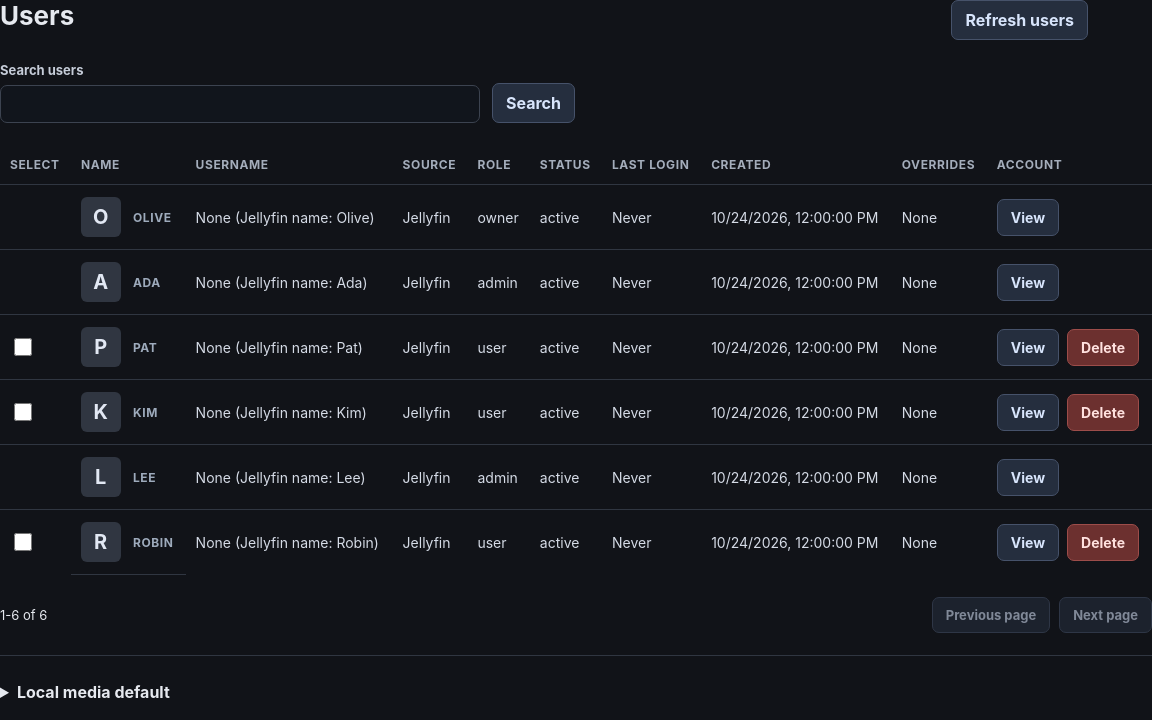
Test: Account deletion entry points › reports an unknown bulk outcome and rereads Users when the connection drops
The width and height of the screenshot is (1152, 720).
Click the checkbox named "Select Pat": [23, 347] box [14,338,32,356]
(page scrolled)
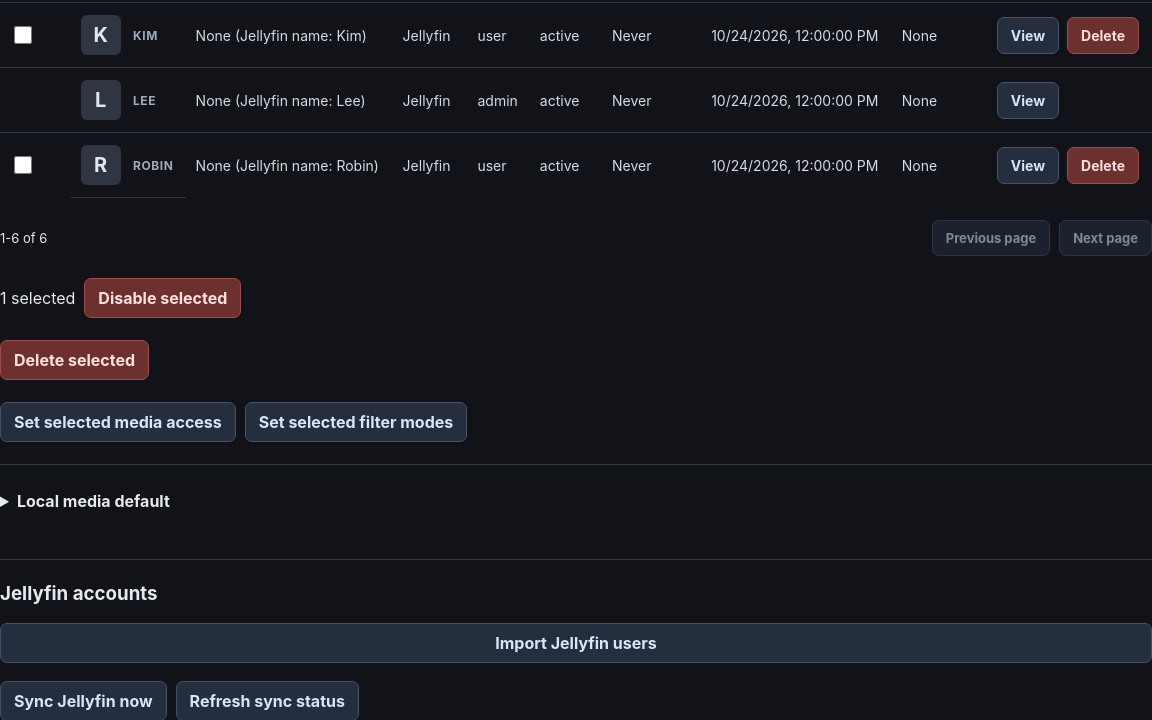
Click the button "Delete selected": [75, 360] box [0,340,149,380]
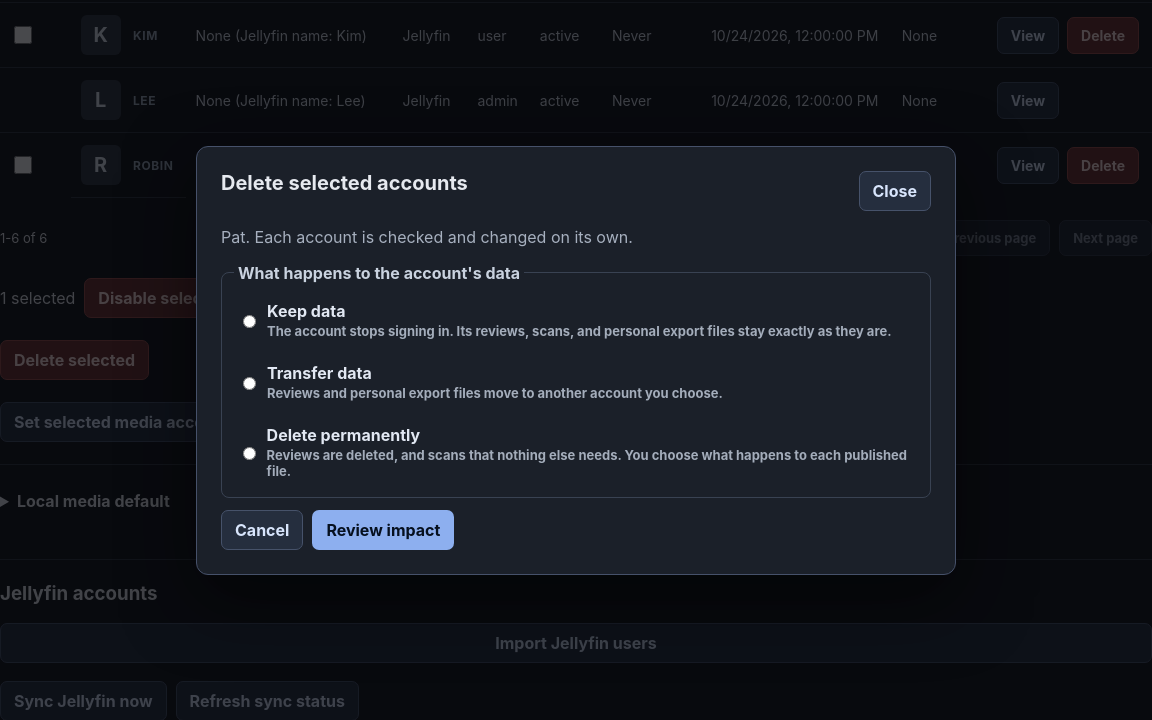
Click the radio button labelled "Keep data": [250, 321] box [243,314,256,328]
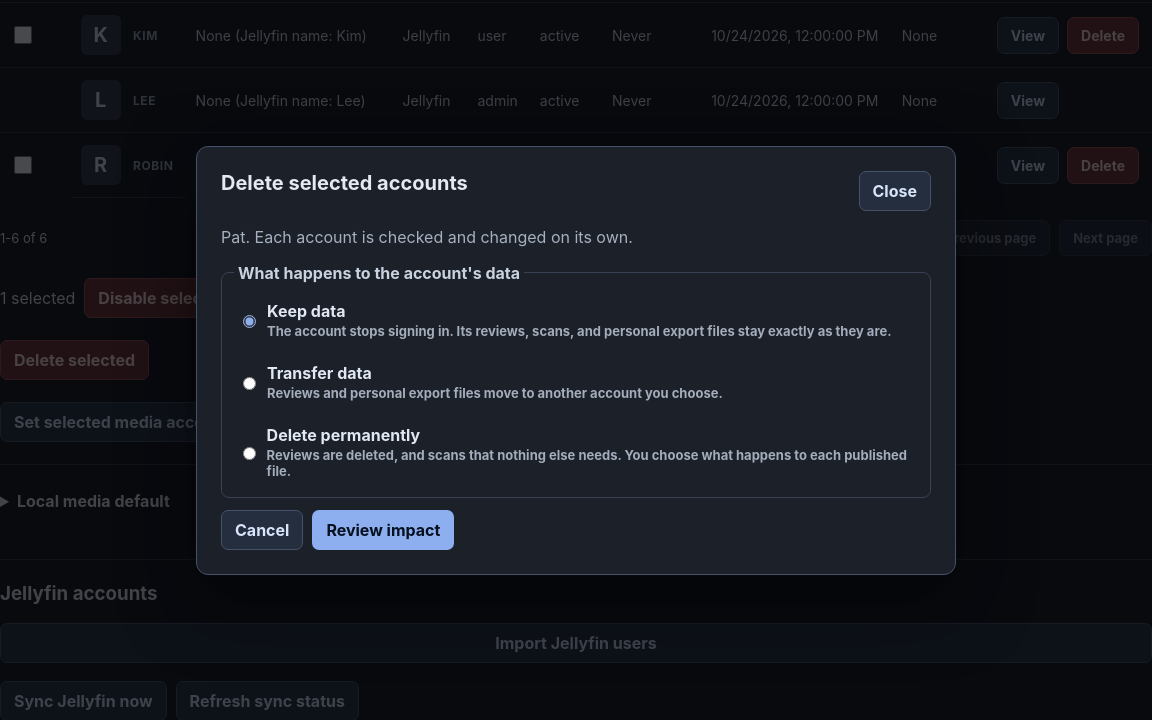
Click the button "Review impact": [383, 530] box [312,510,454,550]
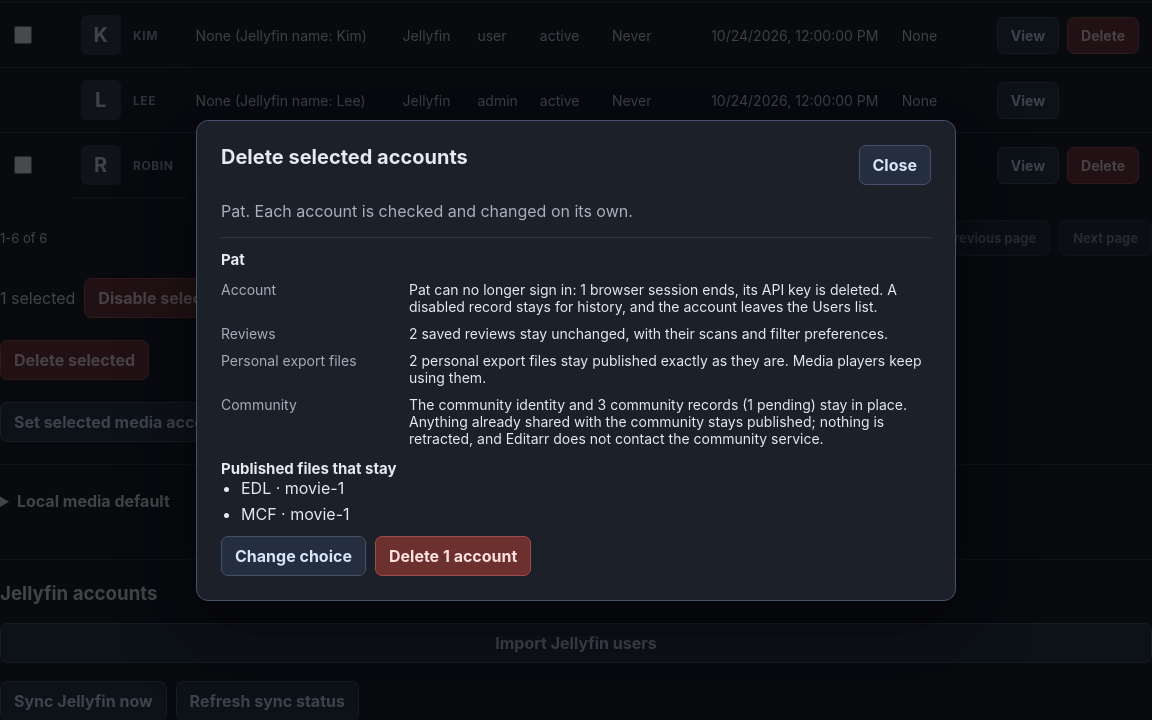
Click the button "Delete 1 account": [453, 556] box [375,536,531,576]
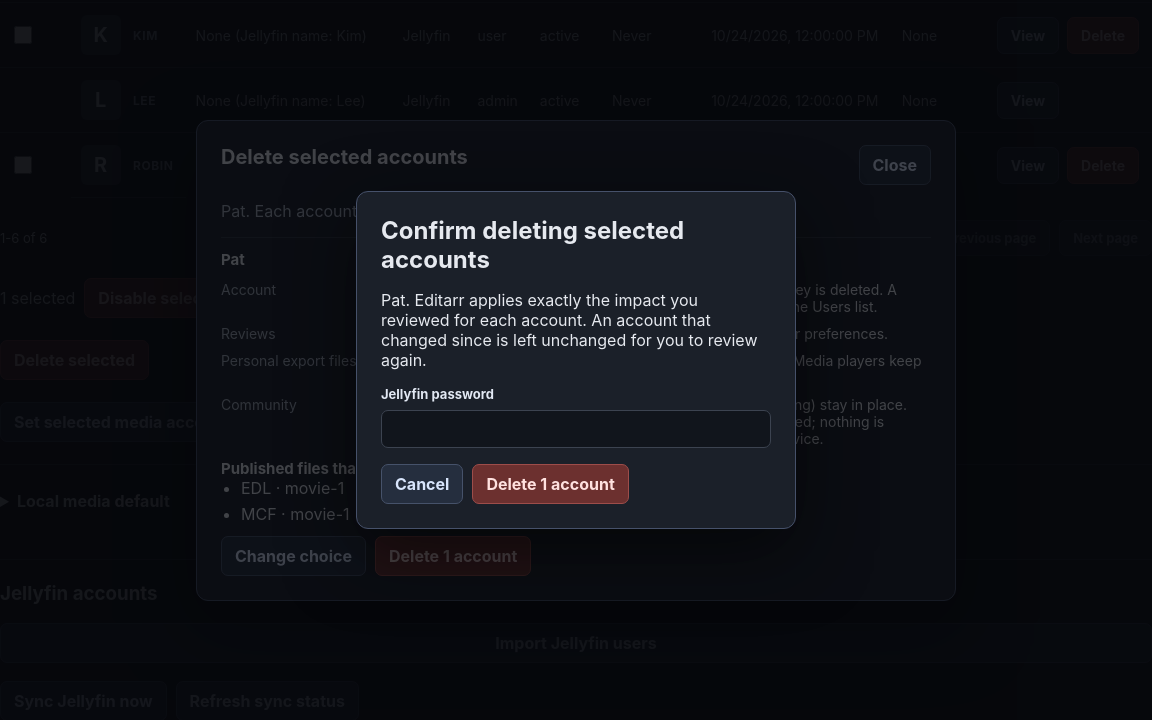
In the password field labelled "Jellyfin password": [576, 429] box [381,410,771,448], type "admin synthetic password"
Click the button "Delete 1 account": [551, 484] box [472,464,629,504]
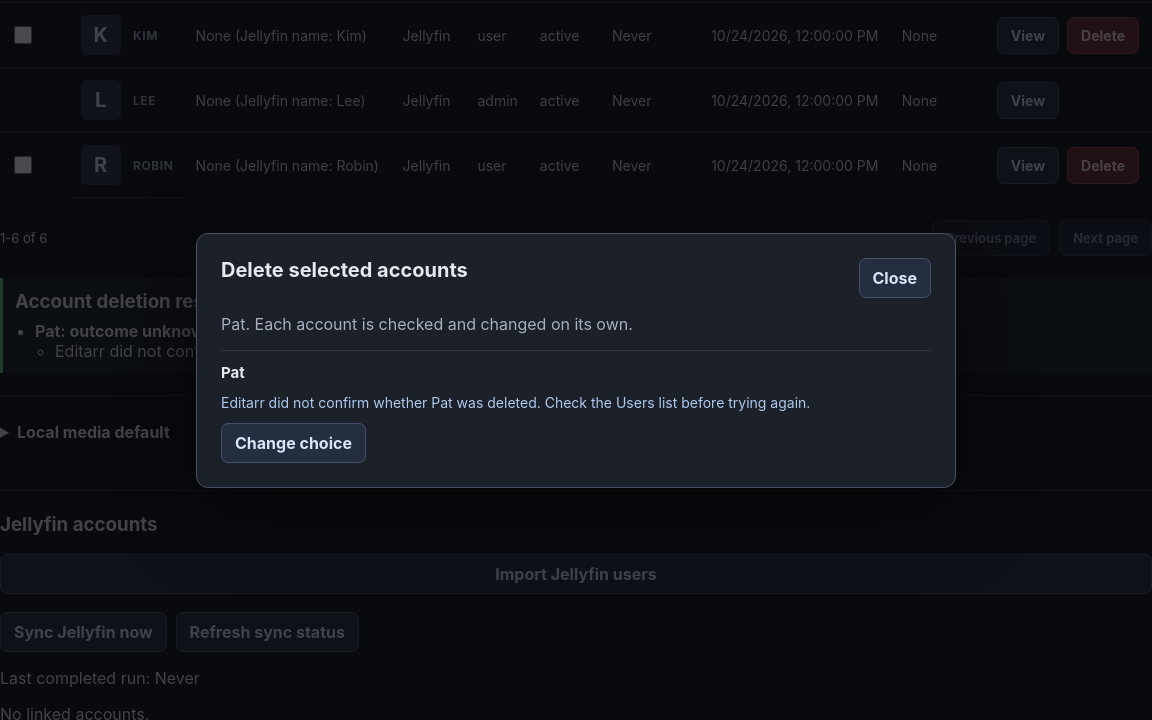
Check: the element named "Deletion of Pat" shows "Editarr did not confirm whether Pat was deleted.", box [221,394,810,410]
Check: the element "Account deletion results" shows "Pat: outcome unknown", box [0,278,1151,373]
